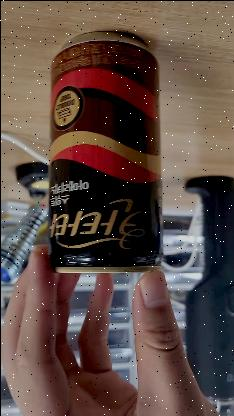Can: (43, 27, 165, 287)
